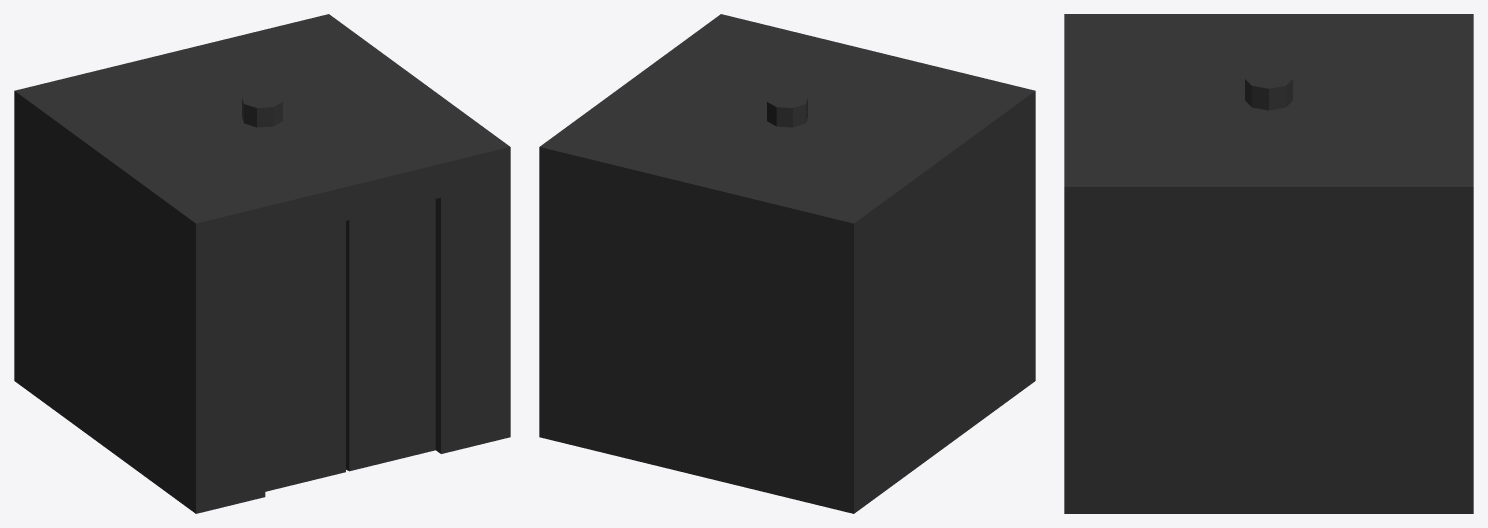
Rendered from elevator1.fbx.
3 renders of one model, left to right at view 1: azimuth 30°, elevation 25°; view 2: azimuth 150°, elevation 25°; view 3: azimuth 270°, elevation 25°, orthographic. The views are drawn at different scales.
Parts seen in each view (by area): view 1: Cube; view 2: Cube; view 3: Cube.
Boxes of the visible parts, x1,y1,x2,y2 form: Cube: (14,14,510,513); Cube: (539,14,1035,513); Cube: (1064,14,1473,513).
Size of the model in its own units: 340 by 340 by 340.
